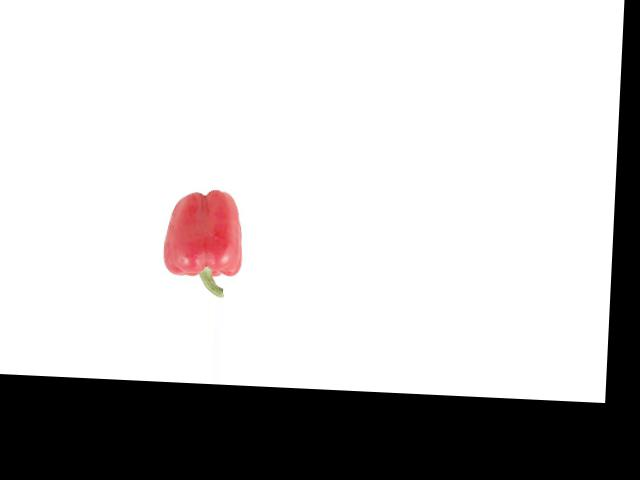bell_pepper: (150, 186, 248, 297)
